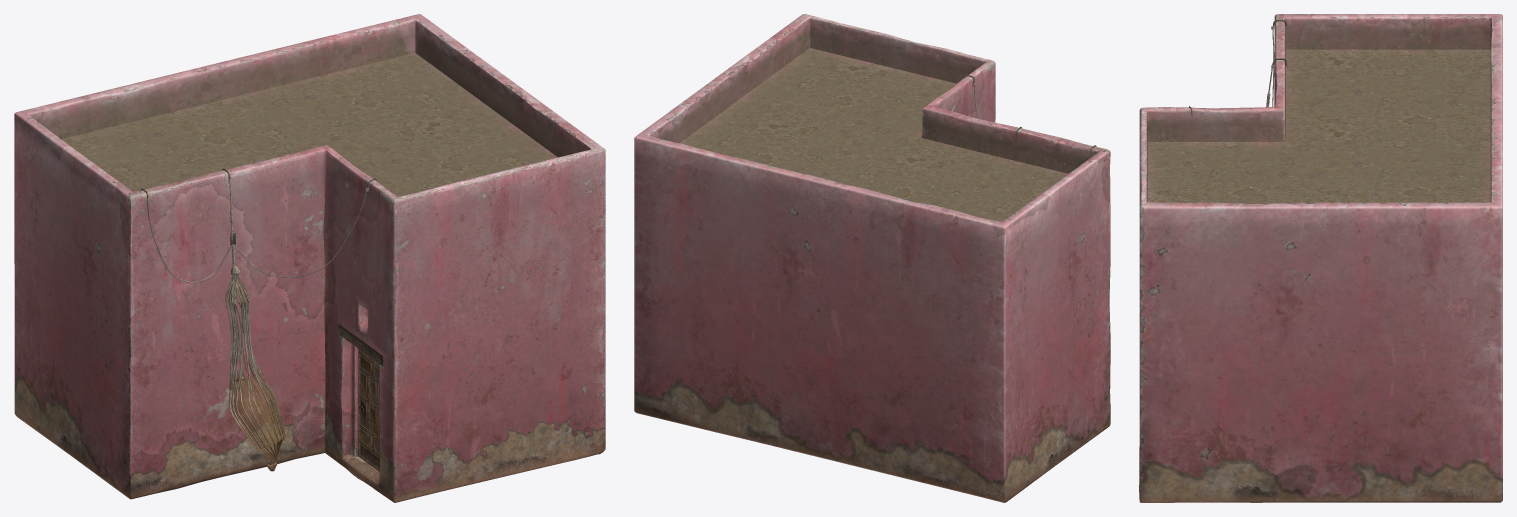
File: xi_oam_building_end.gltf
3 views of the same model, side by side, from view 1: azimuth 30°, elevation 25°; view 2: azimuth 150°, elevation 25°; view 3: azimuth 270°, elevation 25° (orthographic). The views are drawn at different scales.
Parts seen in each view (by area): view 1: xi_oam_building_end; view 2: xi_oam_building_end; view 3: xi_oam_building_end.
Boxes of the visible parts, left/top/right/bottom form: xi_oam_building_end: left=14, top=14, right=605, bottom=502; xi_oam_building_end: left=634, top=14, right=1110, bottom=502; xi_oam_building_end: left=1139, top=14, right=1502, bottom=502.
Size of the model in its own units: 7.08 by 5.09 by 5.61.
4 materials, 4 textured.
